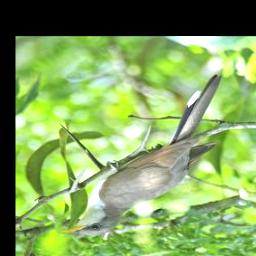Cuckoo: (60, 75, 223, 236)
